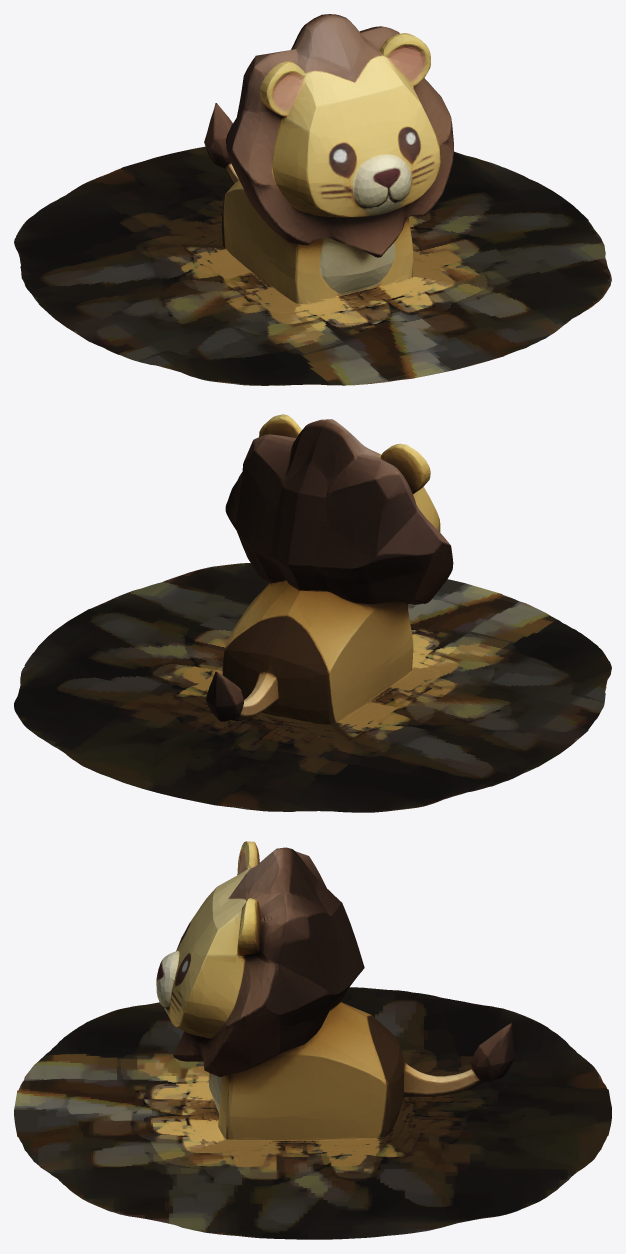
Rendered from model-pick-1.glb.
3 views of the same model, one above another, from view 1: azimuth 30°, elevation 25°; view 2: azimuth 150°, elevation 25°; view 3: azimuth 270°, elevation 25° (orthographic). The views are drawn at different scales.
Parts seen in each view (by area): view 1: geometry_0; view 2: geometry_0; view 3: geometry_0.
Boxes of the visible parts, x1,y1,x2,y2 form: geometry_0: (14, 14, 611, 385); geometry_0: (14, 414, 611, 812); geometry_0: (14, 841, 611, 1239).
Bounding box in the file's own units: 0.9999 × 0.5455 × 1.
Materials: 1 (1 with a texture image).
